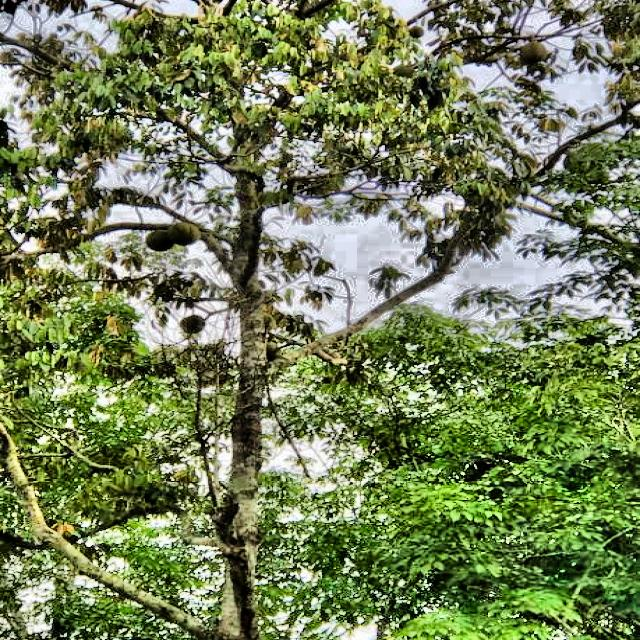arvore: (204, 135, 280, 640)
